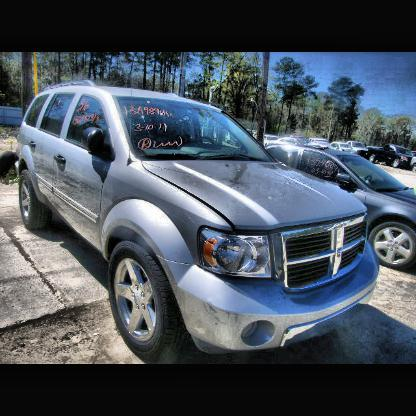Dodge Durango SUV 2007: (15, 84, 377, 364)
